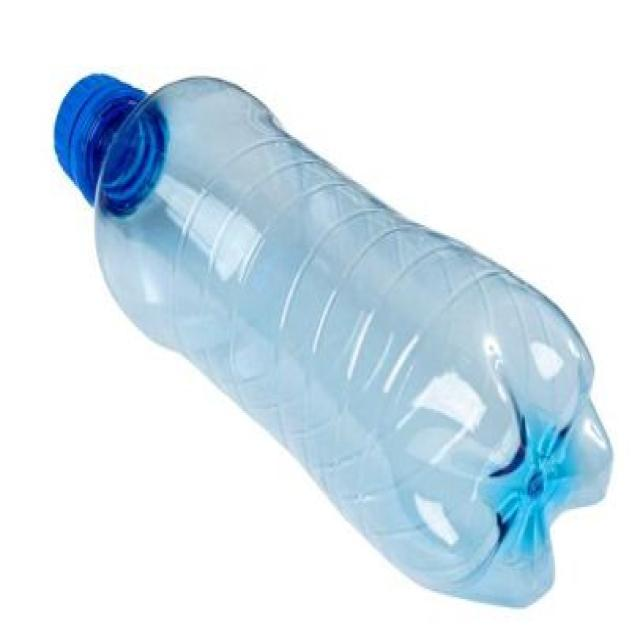general: (52, 70, 613, 608)
